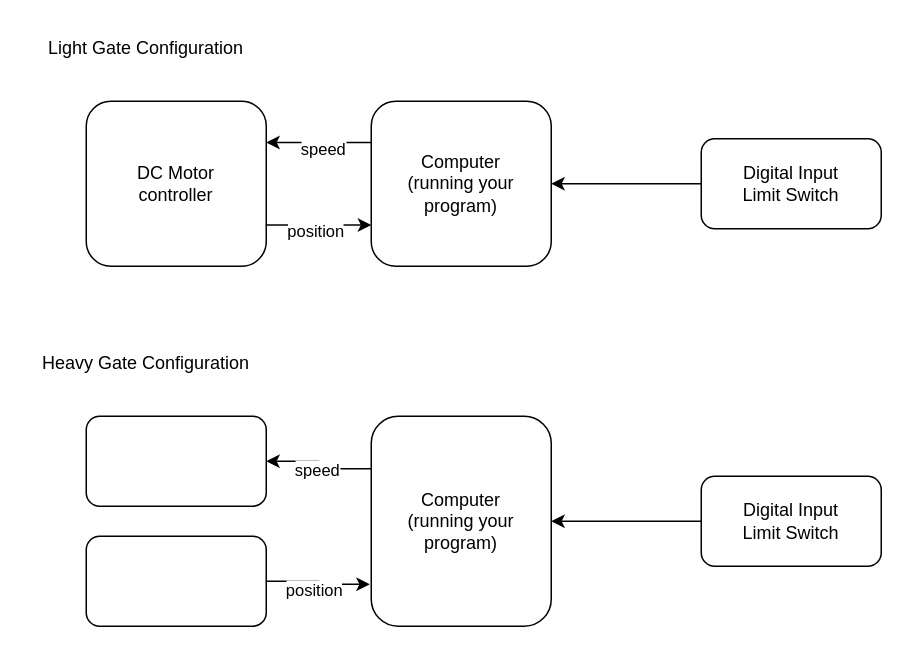
This 908x653 diagram has some shape labels left out. Each missing label, with the centre of its shape:
AC Motor controller: the point at 175,460
External Encoder: the point at 175,580
